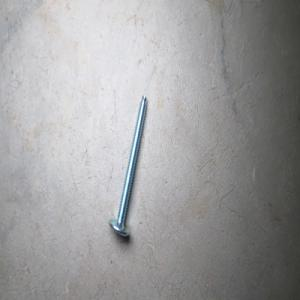Bolt: (107, 94, 147, 237)
